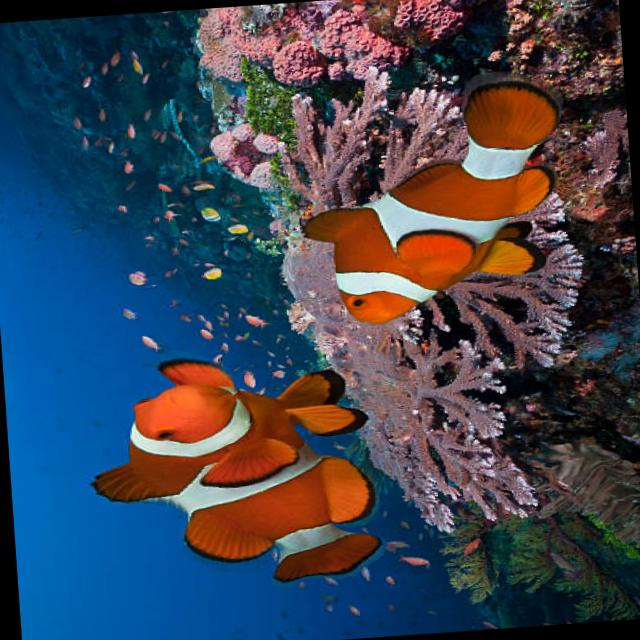ClownFish: (81, 345, 380, 593), (294, 72, 572, 323)
